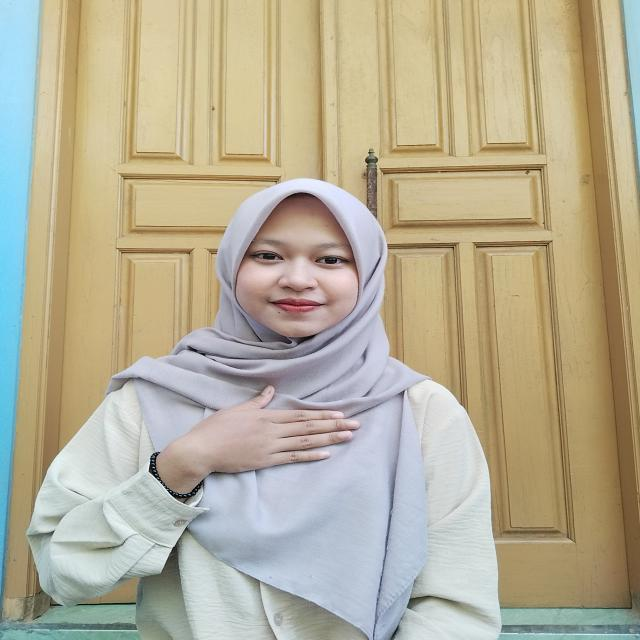tolong: (113, 385, 371, 505)
